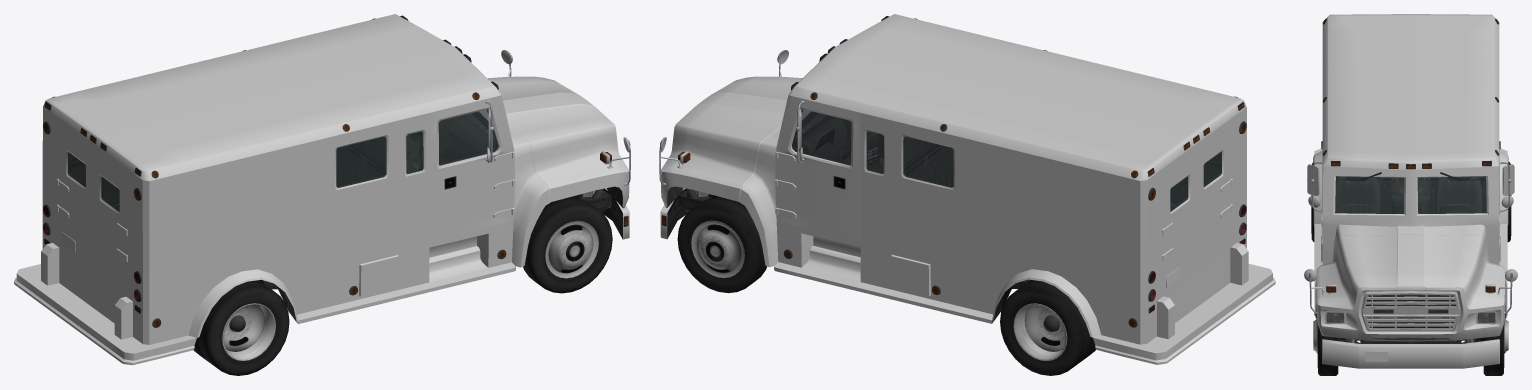
3 views of the same model, side by side, from view 1: azimuth 30°, elevation 25°; view 2: azimuth 150°, elevation 25°; view 3: azimuth 270°, elevation 25° (orthographic). The views are drawn at different scales.
Visible parts, largest first — view 1: BODY, hood, Door_right, wheelRR, wheelFR, bottom, bumper_rear, reardoor_right, reardoor_left, Body_glass, Door_glass_right, Dashboard (+3 smaller); view 2: BODY, hood, Door_left, wheelRL, wheelFL, bumper_rear, bottom, reardoor_right, reardoor_left, Body_glass, Door_glass_left, Dashboard (+3 smaller); view 3: BODY, hood, Windshield, Hood_inner, bumper_front, bottom, Seats, Engine, wheelFR, wheelFL, Door_inner_right, Door_inner_left (+4 smaller).
Part boxes in pixels (x1,y1,x2,y2): BODY: [41, 14, 550, 344]; hood: [487, 76, 629, 207]; Door_right: [429, 96, 511, 241]; wheelRR: [193, 280, 289, 375]; wheelFR: [523, 197, 612, 293]; bottom: [44, 15, 611, 327]; bumper_rear: [14, 264, 196, 365]; reardoor_right: [92, 150, 126, 296]; reardoor_left: [58, 126, 92, 271]; Body_glass: [336, 131, 423, 187]; Door_glass_right: [438, 109, 498, 165]; Dashboard: [413, 114, 495, 170]; BODY: [739, 14, 1248, 344]; hood: [661, 76, 802, 207]; Door_left: [778, 96, 860, 240]; wheelRL: [1000, 280, 1095, 375]; wheelFL: [677, 197, 766, 293]; bumper_rear: [1093, 264, 1275, 364]; bottom: [678, 16, 1244, 327]; reardoor_right: [1197, 126, 1231, 271]; reardoor_left: [1163, 150, 1196, 295]; Body_glass: [866, 131, 953, 187]; Door_glass_left: [792, 109, 851, 165]; Dashboard: [794, 115, 883, 172]; BODY: [1313, 14, 1508, 316]; hood: [1315, 234, 1506, 341]; Windshield: [1335, 176, 1486, 213]; Hood_inner: [1304, 269, 1517, 339]; bumper_front: [1322, 339, 1499, 368]; bottom: [1315, 19, 1506, 343]; Seats: [1335, 176, 1482, 213]; Engine: [1366, 294, 1455, 338]; wheelFR: [1313, 318, 1338, 375]; wheelFL: [1483, 318, 1508, 375]; Door_inner_right: [1307, 161, 1322, 212]; Door_inner_left: [1499, 161, 1514, 212].
Bounding box in the file's own units: 634 × 269 × 258.
